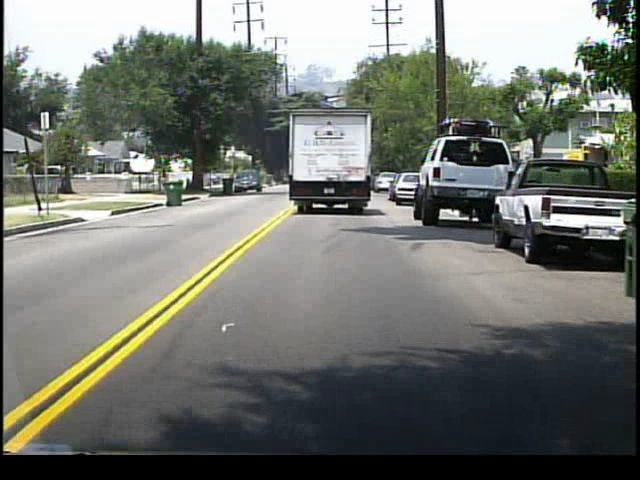person: (160, 167, 171, 194)
